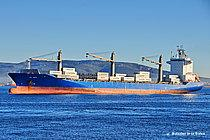Ship: (5, 42, 205, 98)
